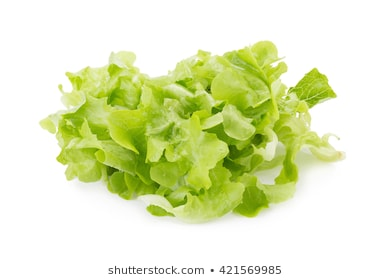chopped lettuce: (62, 66, 315, 211)
